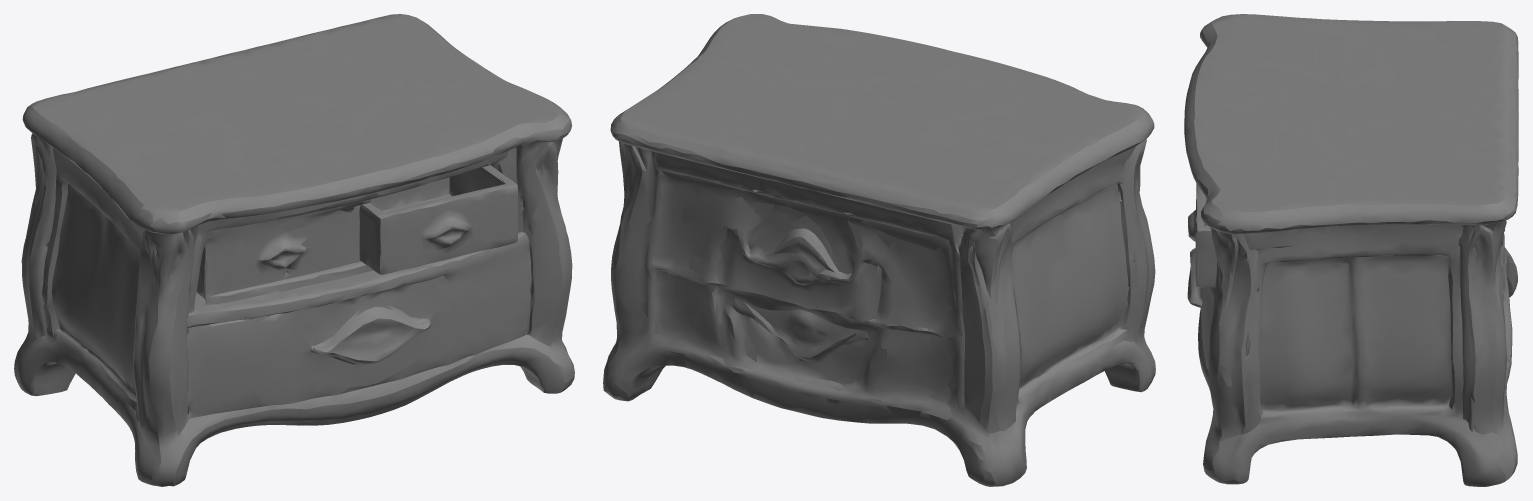
File: completion_cabinet_2.glb
The picture shows the model from 3 angles, left to right: view 1: azimuth 30°, elevation 25°; view 2: azimuth 150°, elevation 25°; view 3: azimuth 270°, elevation 25°; orthographic projection.
Visible parts, largest first — view 1: geometry_0; view 2: geometry_0; view 3: geometry_0.
Part boxes in pixels (<box>): geometry_0: <box>14,14,574,486</box>; geometry_0: <box>603,14,1155,486</box>; geometry_0: <box>1184,14,1518,486</box>.
Bounding box in the file's own units: 1 × 0.6268 × 0.6825.
1 material, 1 textured.
